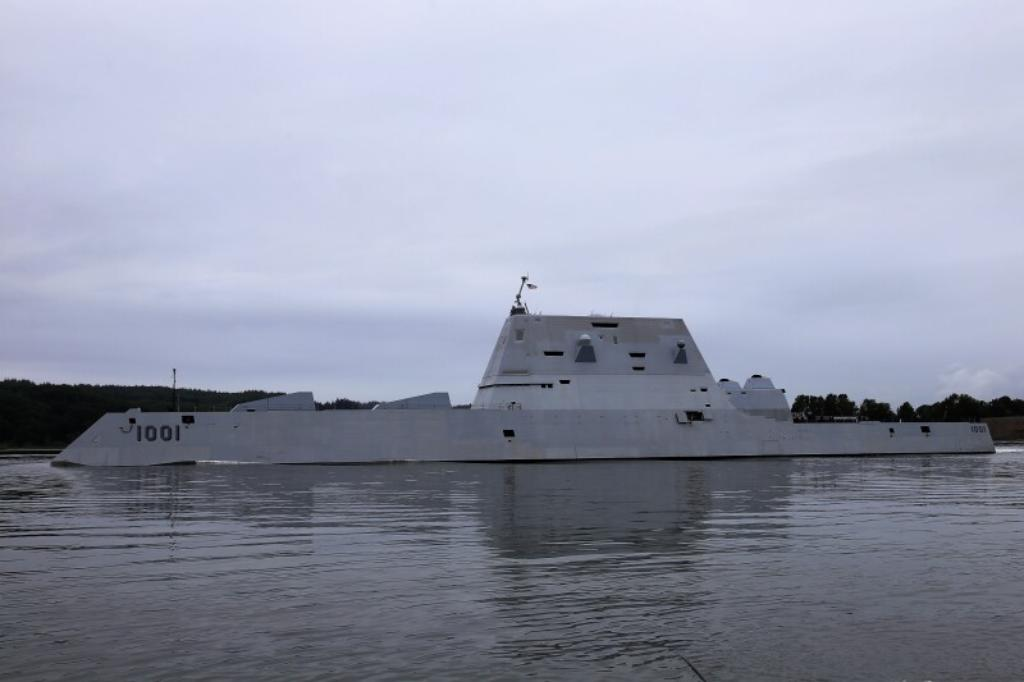Warship: (48, 269, 996, 471)
